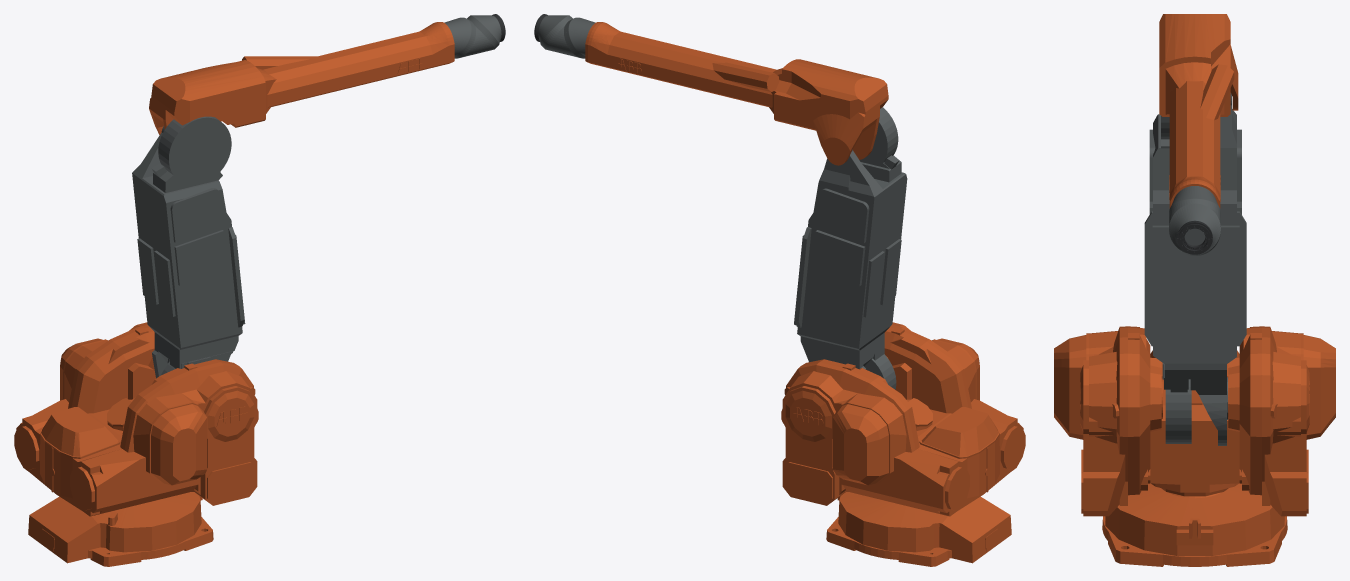
File: irb5400.dae
The picture shows the model from 3 angles, left to right: view 1: azimuth 30°, elevation 25°; view 2: azimuth 150°, elevation 25°; view 3: azimuth 270°, elevation 25°; orthographic projection. The views are drawn at different scales.
Visible parts, largest first — view 1: link_1, link_2, link_3, base_link, link_4, link_5; view 2: link_1, link_2, link_3, base_link, link_4, link_5; view 3: link_1, link_2, base_link, link_3, link_5b, link_6, link_4.
Boxes of the visible parts, <box> form: link_1: <box>14,322,258,516</box>; link_2: <box>132,116,245,378</box>; link_3: <box>149,22,454,134</box>; base_link: <box>28,492,213,566</box>; link_4: <box>444,17,473,57</box>; link_5: <box>454,17,496,58</box>; link_1: <box>781,322,1025,516</box>; link_2: <box>794,107,907,389</box>; link_3: <box>585,22,888,165</box>; base_link: <box>826,492,1011,566</box>; link_4: <box>566,17,595,57</box>; link_5: <box>543,17,585,58</box>; link_1: <box>1054,326,1335,516</box>; link_2: <box>1144,93,1246,445</box>; base_link: <box>1102,483,1287,566</box>; link_3: <box>1159,14,1238,208</box>; link_5b: <box>1169,203,1220,255</box>; link_6: <box>1177,221,1212,254</box>; link_4: <box>1169,186,1220,214</box>.
Size of the model in its own units: 2.34 by 1.01 by 2.17.
